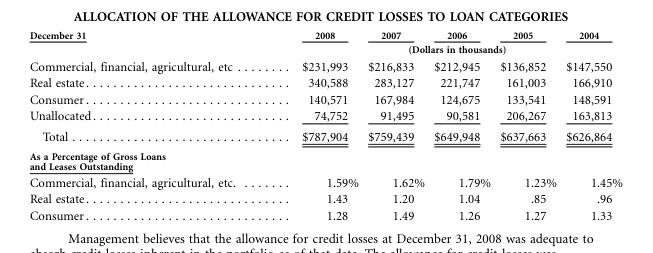table: (28, 29, 622, 222)
table column: (28, 29, 268, 222), (268, 29, 362, 222), (362, 29, 428, 222), (428, 29, 494, 222), (494, 29, 560, 222), (560, 29, 622, 222)
table column header: (28, 29, 622, 56)
table projected row header: (28, 146, 622, 173)
table row: (28, 146, 622, 173), (28, 125, 622, 146), (28, 56, 622, 74), (28, 107, 622, 125), (28, 90, 622, 107), (28, 173, 622, 190), (28, 190, 622, 207), (28, 74, 622, 90), (28, 41, 622, 56), (28, 207, 622, 222), (28, 29, 622, 41)
table spanning cell: (28, 29, 268, 56), (268, 41, 622, 56)
